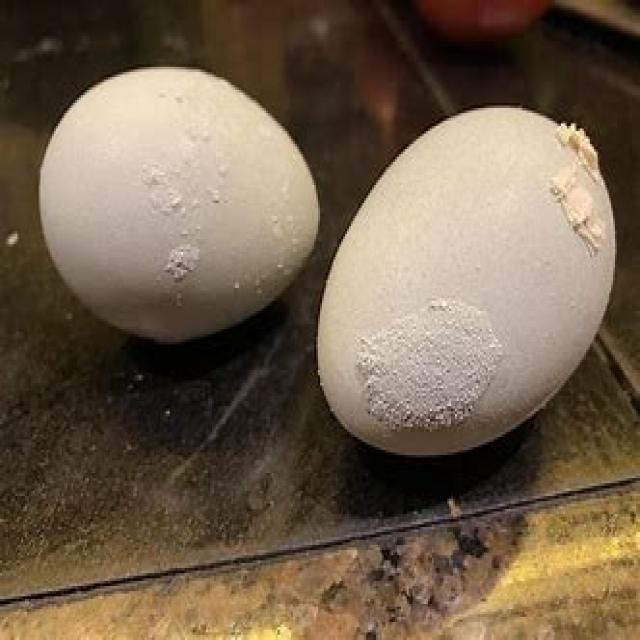Calcium Deposit Egg: (308, 72, 628, 461), (39, 67, 316, 346)
